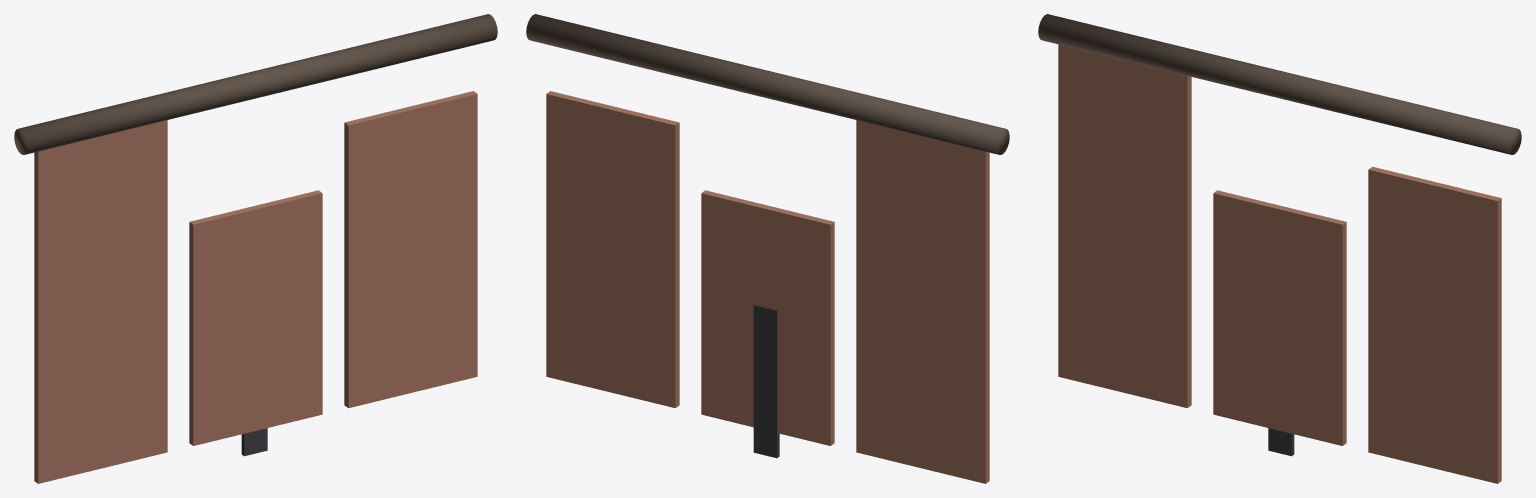
Rendered from prop_noren_boro.glb.
The picture shows the model from 3 angles, left to right: view 1: azimuth 30°, elevation 25°; view 2: azimuth 150°, elevation 25°; view 3: azimuth 330°, elevation 25°; orthographic projection.
Parts seen in each view (by area): view 1: noren_boro; view 2: noren_boro; view 3: noren_boro.
Boxes of the visible parts, x1,y1,x2,y2 form: noren_boro: (14, 14, 497, 483); noren_boro: (526, 14, 1009, 483); noren_boro: (1038, 14, 1521, 483).
Bounding box in the file's own units: 2 × 1.55 × 0.1.
